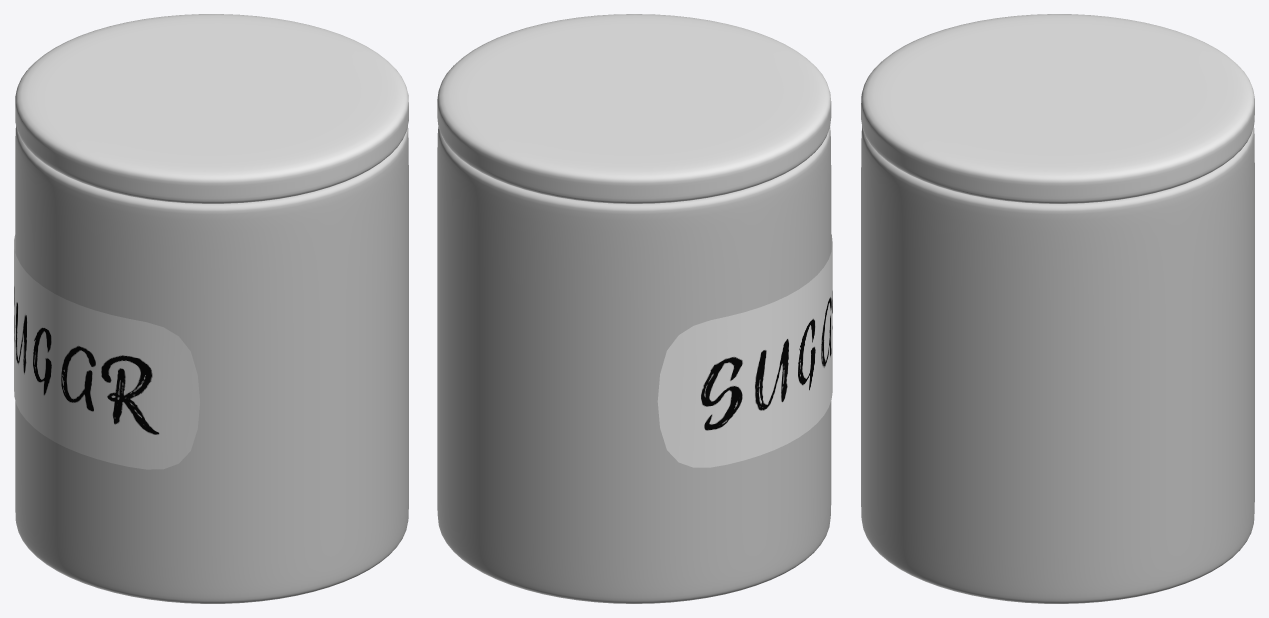
Rendered from sugar-jar.fbx.
The picture shows the model from 3 angles, left to right: view 1: azimuth 30°, elevation 25°; view 2: azimuth 150°, elevation 25°; view 3: azimuth 270°, elevation 25°; orthographic projection.
Parts seen in each view (by area): view 1: jar, jar-cap, label; view 2: jar, jar-cap, label; view 3: jar, jar-cap.
Boxes of the visible parts, <box> form: jar: <box>15,126,408,603</box>; jar-cap: <box>15,14,408,203</box>; label: <box>14,235,199,469</box>; jar: <box>437,127,831,603</box>; jar-cap: <box>437,14,831,203</box>; label: <box>657,234,832,467</box>; jar: <box>861,126,1254,603</box>; jar-cap: <box>861,14,1254,203</box>.
Bounding box in the file's own units: 196 × 235 × 195.
